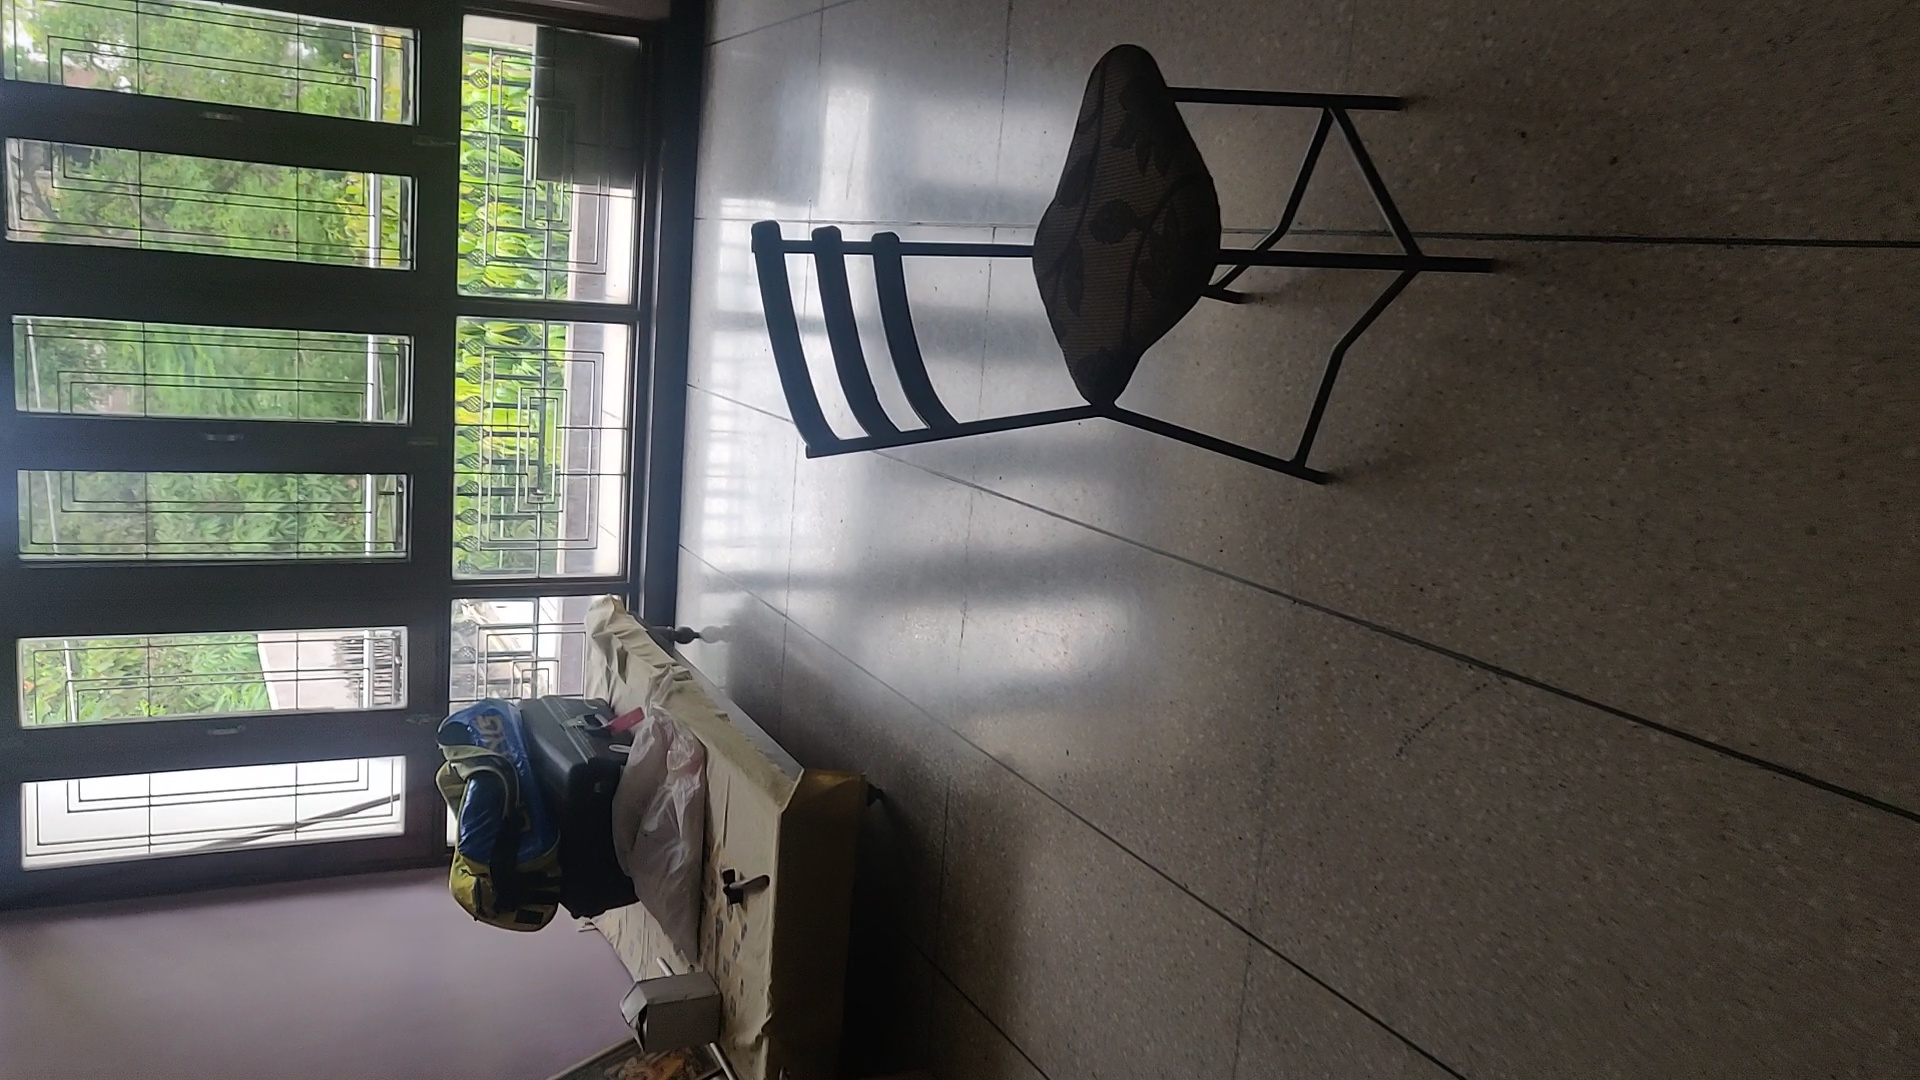hammer: (717, 868, 769, 907)
